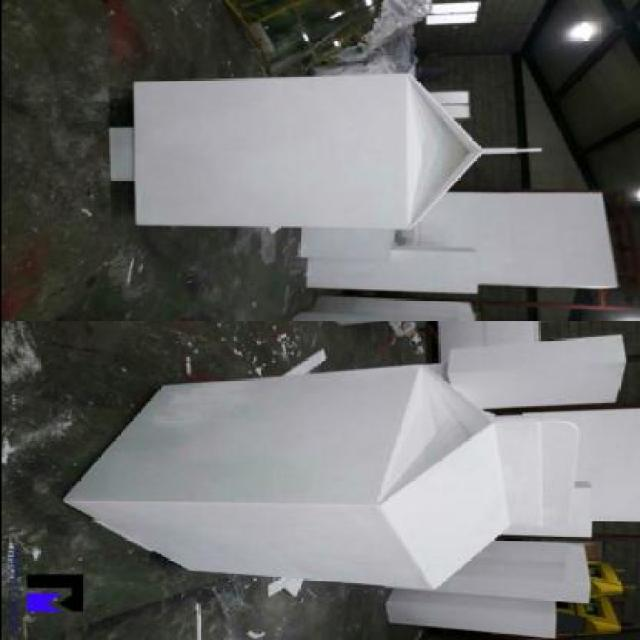non_white_jug: (56, 366, 586, 602), (112, 64, 552, 236)
